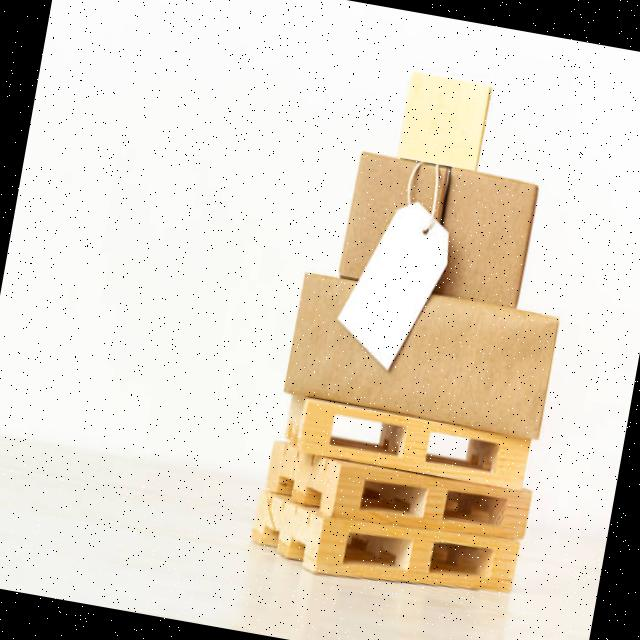Wooden-Pallets: (250, 393, 538, 593), (248, 489, 527, 593), (257, 438, 530, 537), (280, 398, 535, 487)
